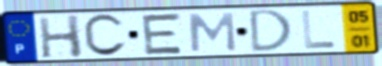C: (81, 12, 129, 59)
D: (248, 8, 295, 54)
E: (139, 11, 186, 56)
H: (36, 14, 86, 60)
L: (300, 9, 339, 51)
M: (187, 11, 238, 53)
